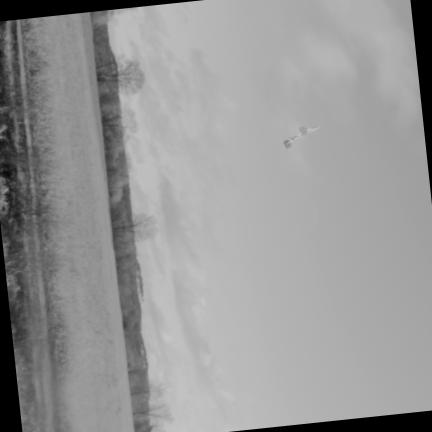Shahed: (283, 126, 319, 148)
